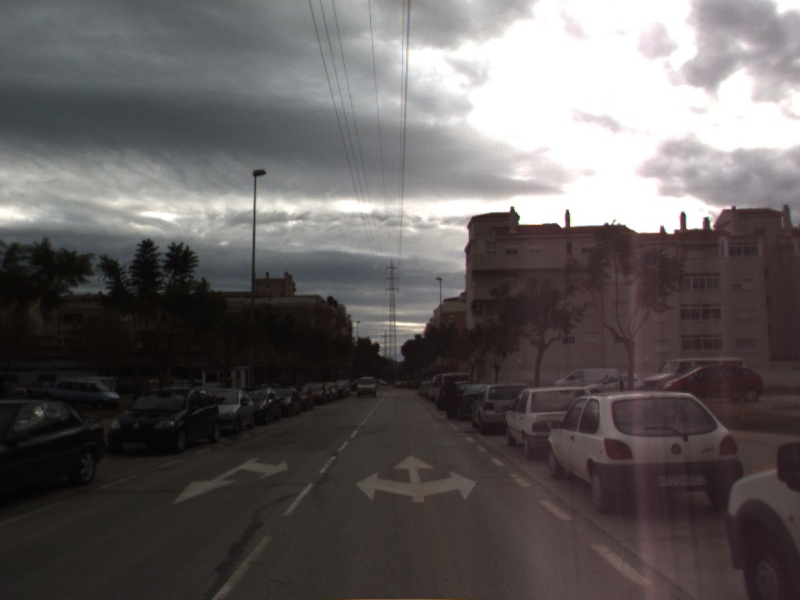STRAIGHT_LEFT_RIGHT: (353, 453, 479, 505)
